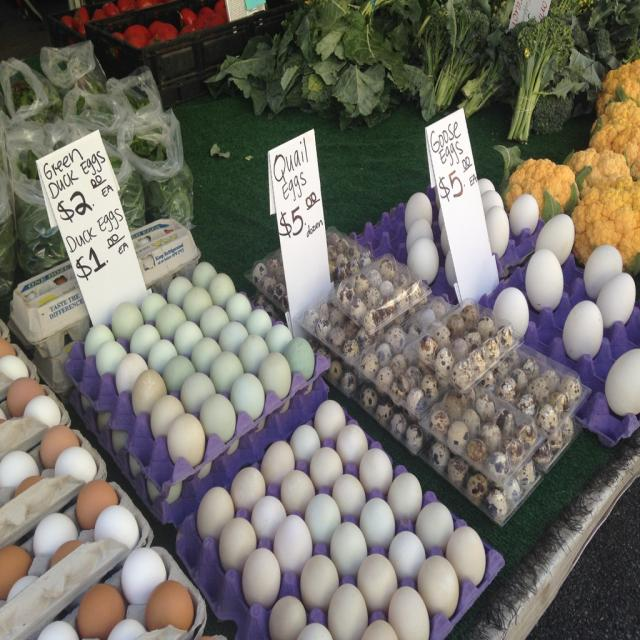Egg: (120, 271, 274, 413), (0, 336, 62, 446), (416, 554, 459, 618), (76, 582, 122, 640), (120, 547, 166, 603), (606, 346, 640, 419), (526, 245, 564, 309), (146, 579, 193, 630), (243, 544, 280, 606), (326, 584, 368, 638), (595, 269, 631, 330), (388, 588, 431, 639), (449, 524, 484, 586), (582, 243, 620, 300), (530, 211, 576, 258), (389, 526, 427, 582), (357, 556, 398, 607), (92, 505, 141, 547), (490, 284, 528, 338), (0, 544, 33, 601), (53, 446, 100, 486), (197, 485, 233, 537), (220, 517, 255, 570), (414, 502, 454, 548), (276, 515, 310, 568), (77, 480, 116, 526), (329, 521, 363, 571), (302, 555, 335, 605), (34, 512, 72, 554), (267, 597, 305, 639), (506, 192, 540, 238), (0, 447, 38, 488), (38, 427, 75, 468), (307, 492, 339, 539), (407, 240, 440, 285), (404, 194, 436, 233), (51, 542, 84, 572), (4, 577, 39, 601), (15, 474, 48, 499), (406, 221, 432, 252), (38, 621, 79, 639), (296, 620, 332, 639), (360, 619, 396, 638), (109, 619, 142, 637)
